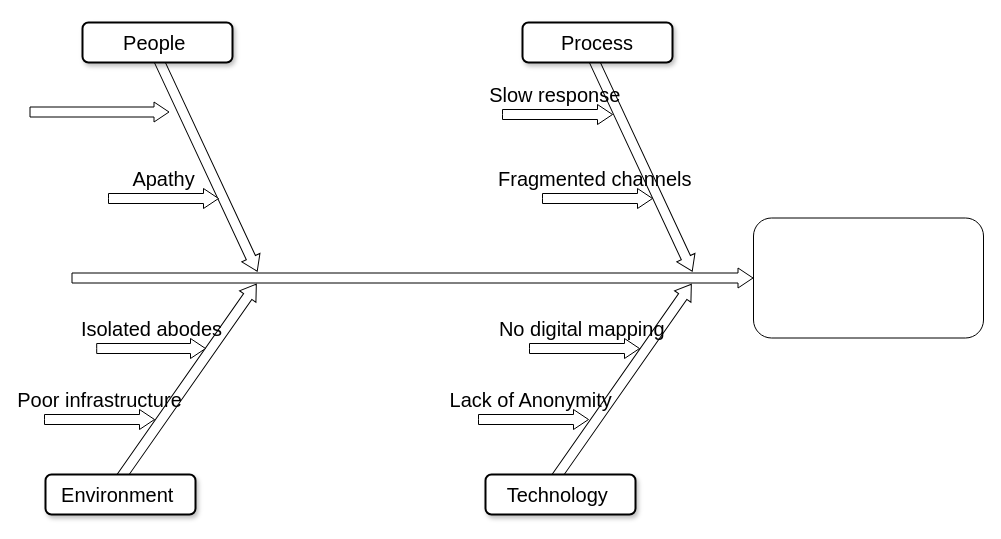
Some shapes in this 1001 by 539 pixel diagram are drawn without their labels. The centre of each missing label's shape, as x and y in pixels:
"Fear of Backlash" belongs at point 99,111.
"High Rate of Unreported Campus & Community Crimes" belongs at point 868,277.
